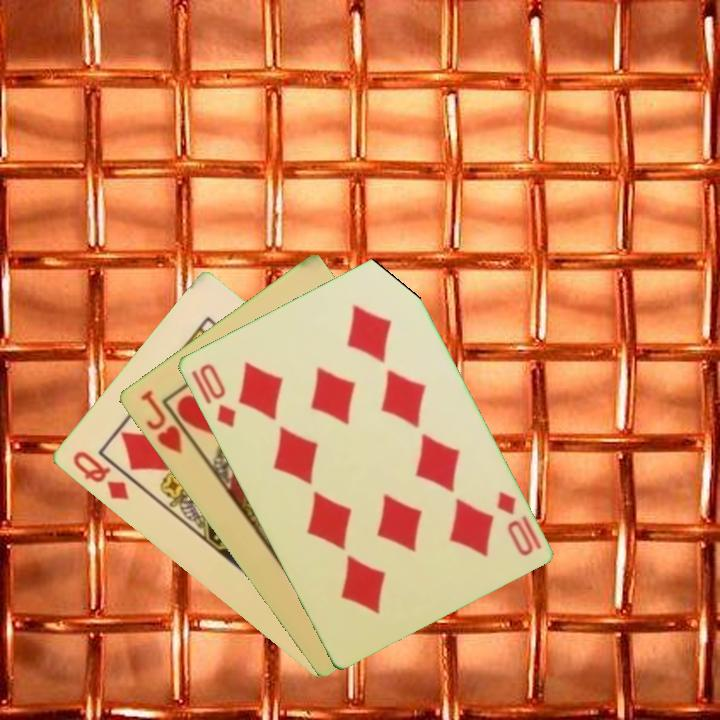10d: (492, 487, 536, 559), (195, 359, 239, 430)
Jh: (136, 386, 185, 457)
Qd: (68, 447, 132, 503)
